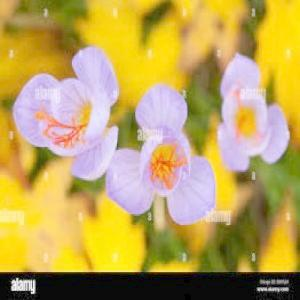Saffron: (16, 50, 128, 178), (113, 88, 218, 224), (218, 58, 286, 168)
